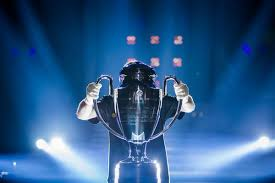trophy: (95, 69, 183, 183)
